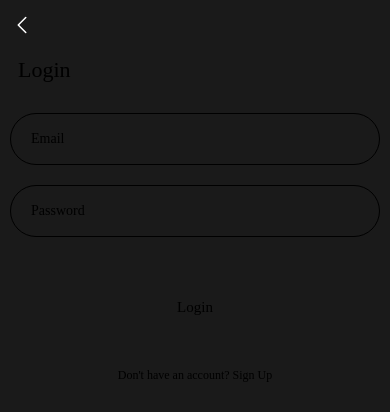
it: LoginScreen › Validation › Error Clearing › should clear password error when password input is focused
Type "test@example.com" into the field with placeholder "Email" at (195, 139), box [11,114,379,164]
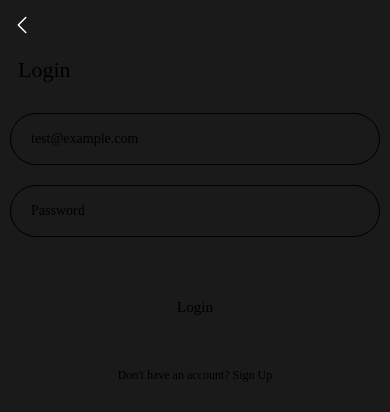
Click the element with test id "Login" at (195, 307), box [177,299,213,315]
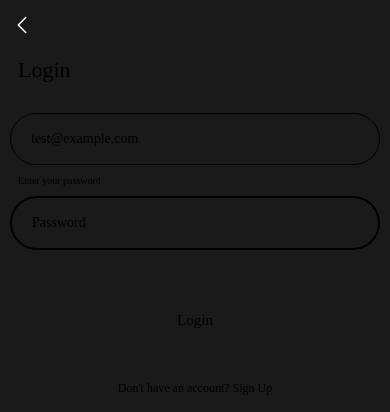
Expected: the text "Enter your password" is shown, [18,175,101,186]
Focus the password field with placeholder "Password" at (195, 223), box [12,198,378,248]
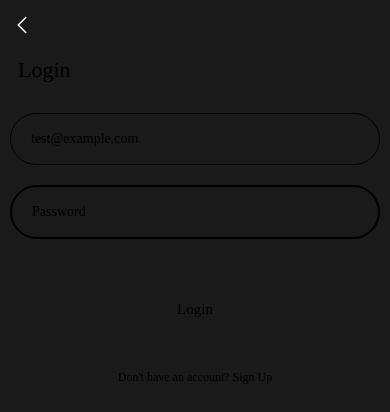
Expected: the text "Enter your password" is gone
